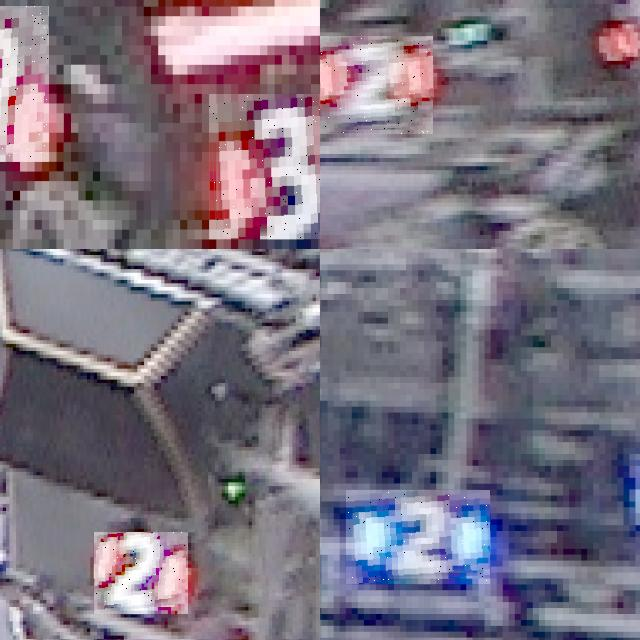B2: (346, 490, 490, 584)
R2: (320, 36, 433, 133), (94, 532, 188, 614)
R3: (209, 93, 320, 239), (0, 6, 49, 161)
